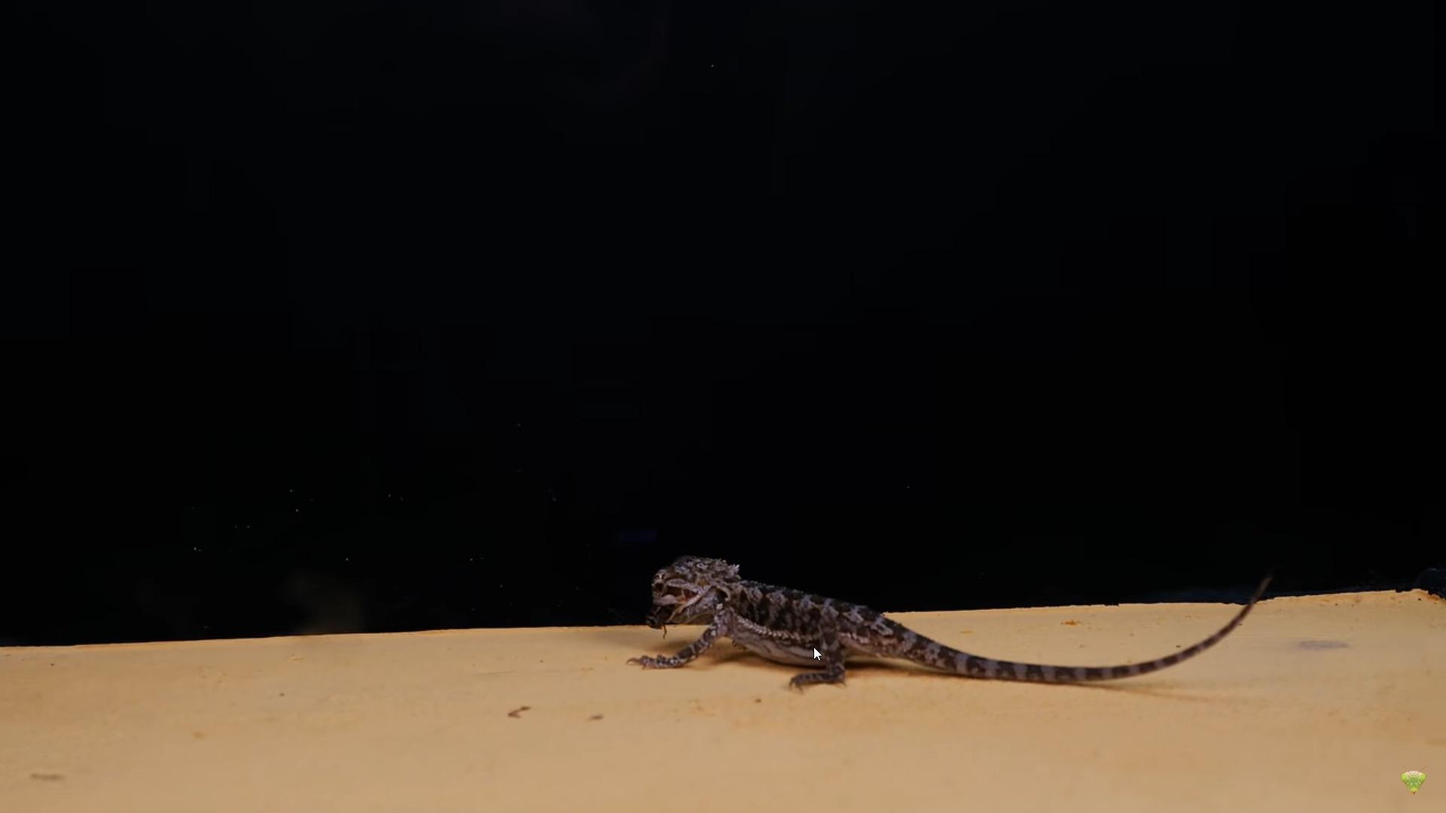cockroach: (643, 595, 678, 640)
lizard: (651, 539, 1134, 700)
